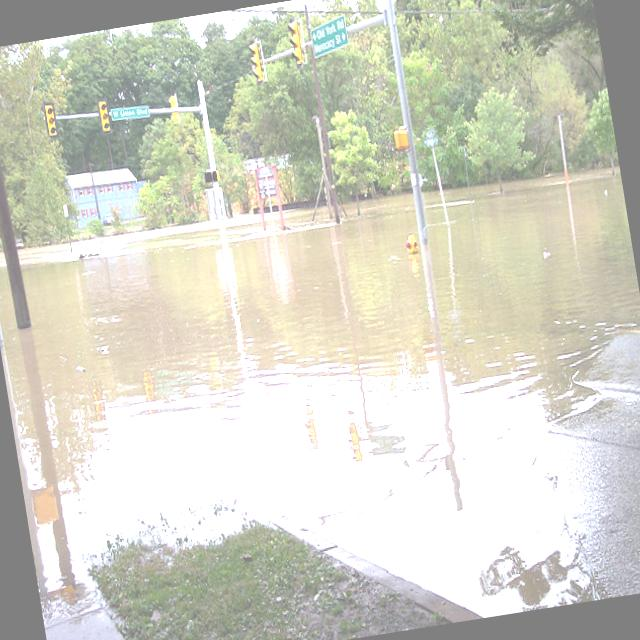Vehicle: (102, 212, 114, 226)
